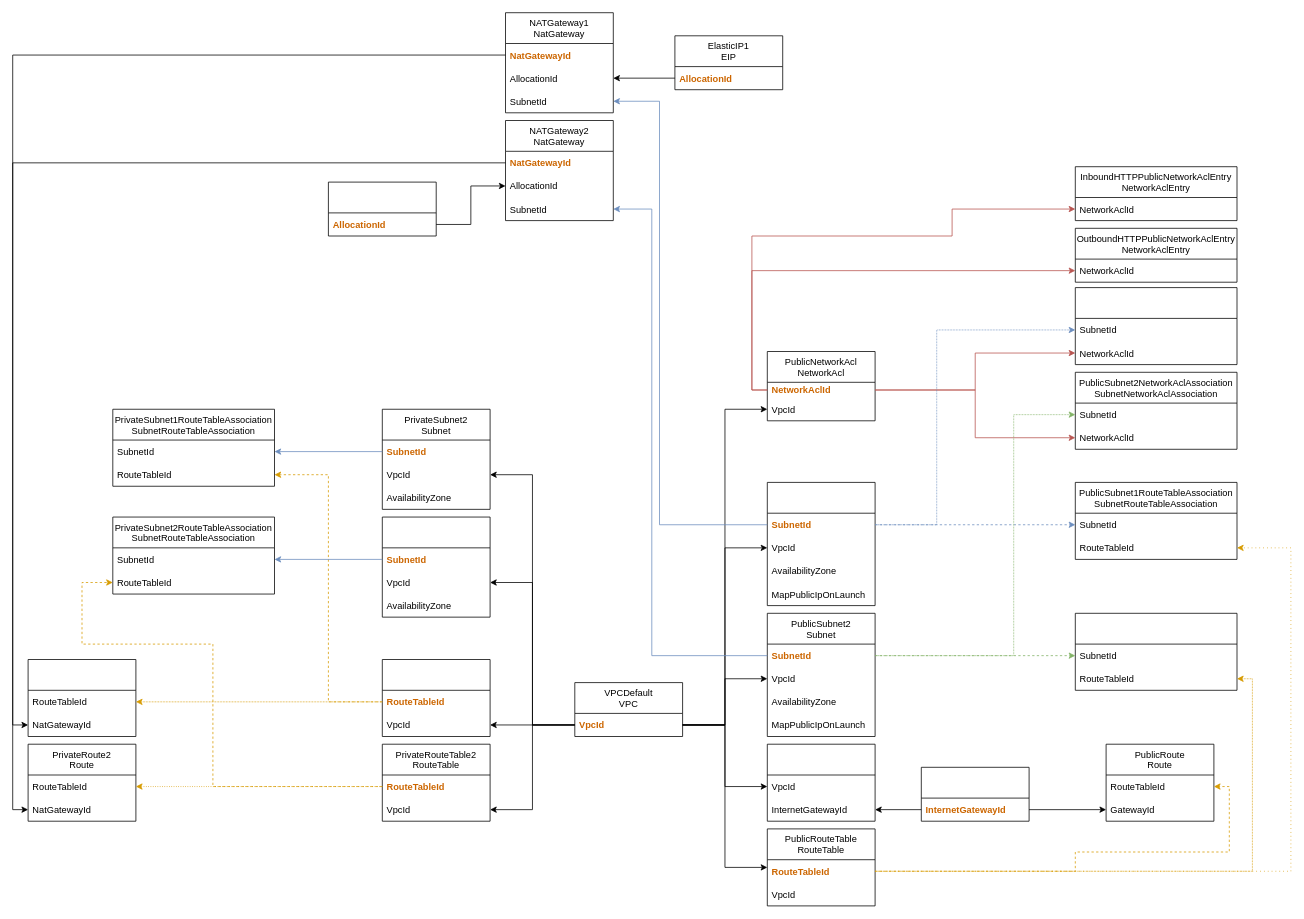
The diagram is 1304 pixels wide and 919 high, and some of its shapes have lost their labels. Each missing label, with the box of its shape:
ElasticIP2 EIP: (328, 181, 436, 236)
InternetGateway InternetGateway: (921, 767, 1029, 821)
PrivateRoute1 Route: (27, 659, 136, 737)
PrivateRouteTable1 RouteTable: (382, 659, 490, 737)
PrivateSubnet1 Subnet: (382, 516, 490, 617)
PublicSubnet1 Subnet: (767, 482, 875, 606)
PublicSubnet1NetworkAclAssociation SubnetNetworkAclAssociation: (1075, 287, 1237, 365)
PublicSubnet2RouteTableAssociation SubnetRouteTableAssociation: (1075, 613, 1237, 690)
VPCGatewayAttachment VPCGatewayAttachment: (767, 743, 875, 821)
